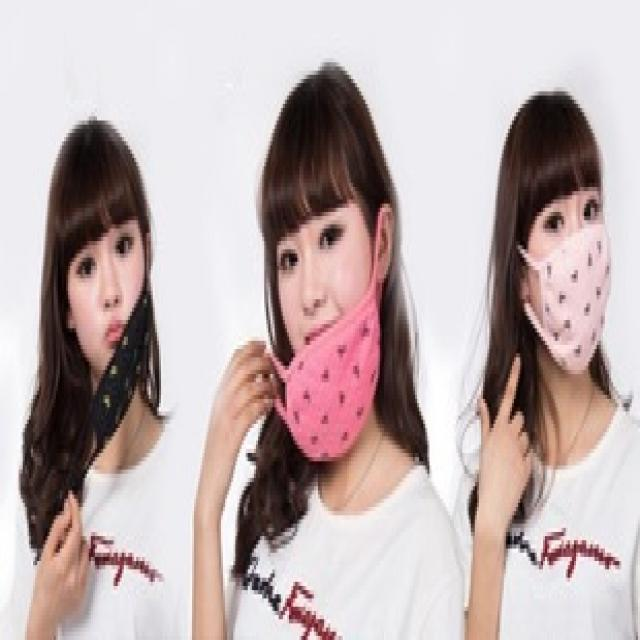mask: (530, 173, 610, 376)
nomask: (278, 192, 379, 382), (66, 202, 145, 388)
